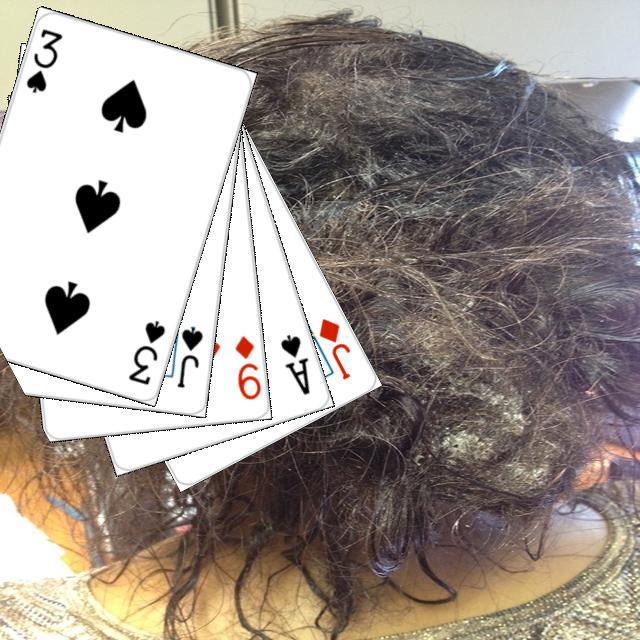3s: (123, 315, 167, 387), (21, 23, 64, 95)
9d: (230, 330, 261, 401)
As: (275, 329, 312, 397)
Jd: (313, 313, 352, 382)
Js: (172, 321, 205, 390)
